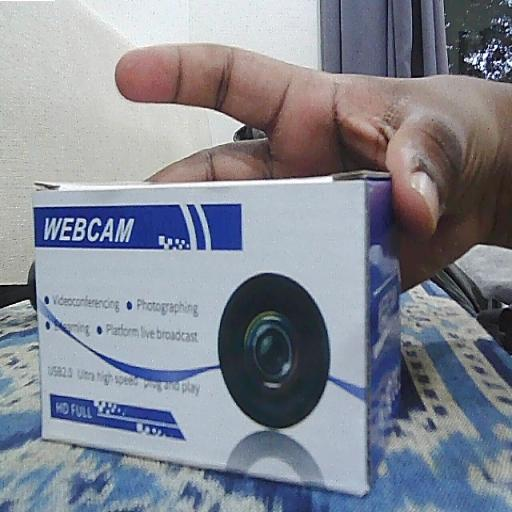webcam_box: (32, 174, 403, 496)
